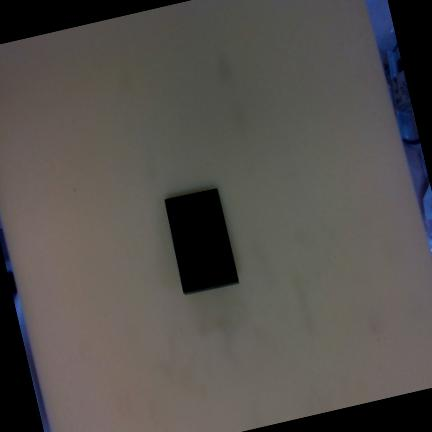tile: (161, 186, 239, 295)
